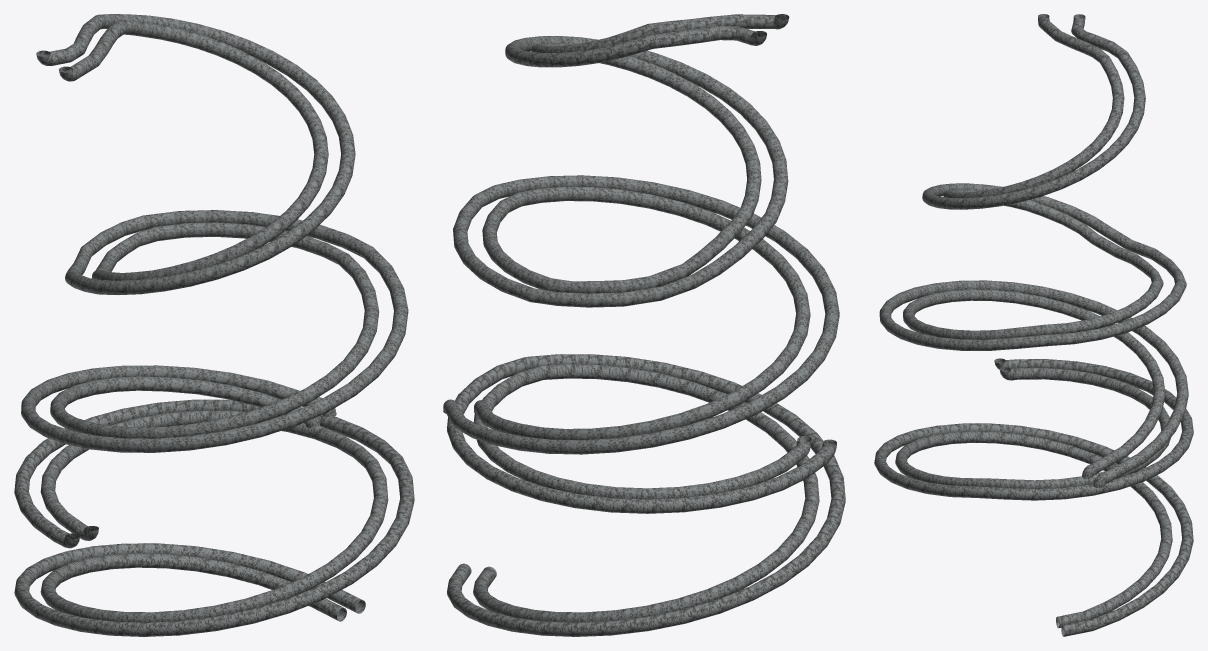
File: field_winter_pipe_center.fbx
3 renders of one model, left to right at view 1: azimuth 30°, elevation 25°; view 2: azimuth 150°, elevation 25°; view 3: azimuth 270°, elevation 25°, orthographic. The views are drawn at different scales.
Parts seen in each view (by area): view 1: field_winter_pipe_center1, field_winter_pipe_center, field_winter_pipe_center3, field_winter_pipe_center2; view 2: field_winter_pipe_center1, field_winter_pipe_center, field_winter_pipe_center3, field_winter_pipe_center2; view 3: field_winter_pipe_center1, field_winter_pipe_center, field_winter_pipe_center3, field_winter_pipe_center2.
Boxes of the visible parts, bbox=[...] form: field_winter_pipe_center1: bbox=[21, 14, 408, 452]; field_winter_pipe_center: bbox=[50, 20, 379, 438]; field_winter_pipe_center3: bbox=[14, 399, 414, 636]; field_winter_pipe_center2: bbox=[40, 410, 388, 622]; field_winter_pipe_center1: bbox=[443, 25, 839, 454]; field_winter_pipe_center: bbox=[474, 14, 810, 440]; field_winter_pipe_center3: bbox=[447, 354, 845, 636]; field_winter_pipe_center2: bbox=[473, 364, 819, 622]; field_winter_pipe_center1: bbox=[879, 14, 1188, 487]; field_winter_pipe_center: bbox=[903, 14, 1165, 478]; field_winter_pipe_center3: bbox=[874, 358, 1193, 636]; field_winter_pipe_center2: bbox=[895, 367, 1172, 628].
Size of the model in its own units: 1162 by 2013 by 1163.
1 material, 1 textured.
